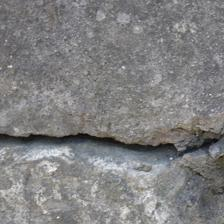Crack: (4, 124, 220, 176)
